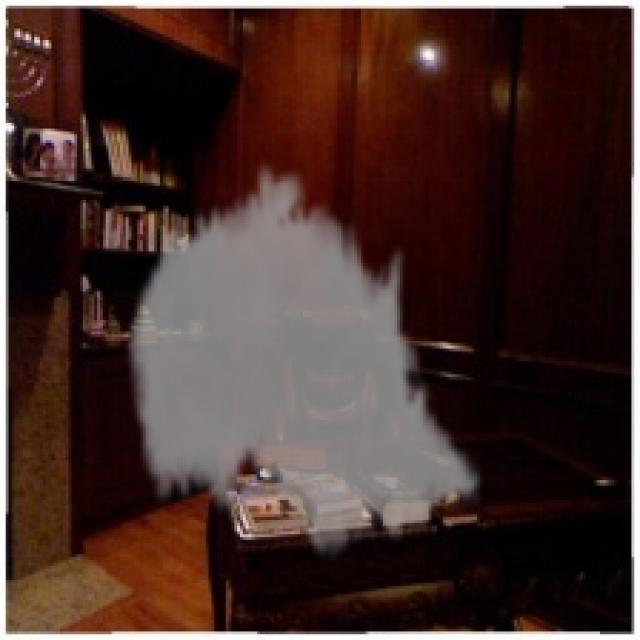smoke: (123, 157, 483, 569)
